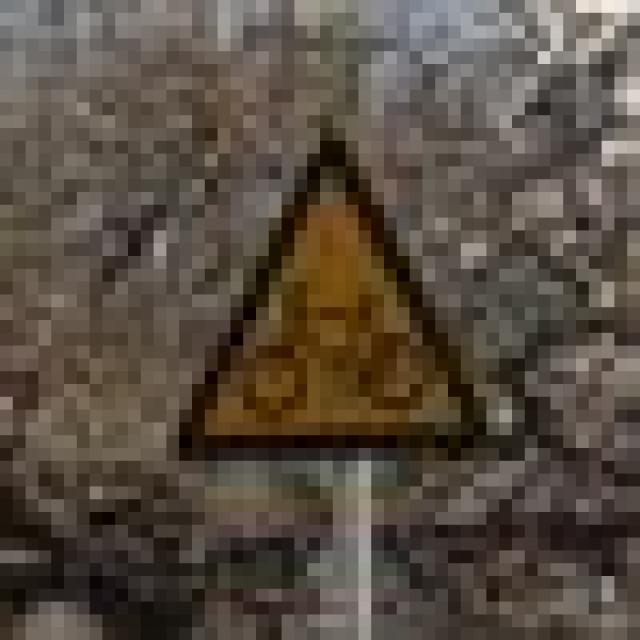CYCLE_CROSSING: (154, 102, 499, 448)
